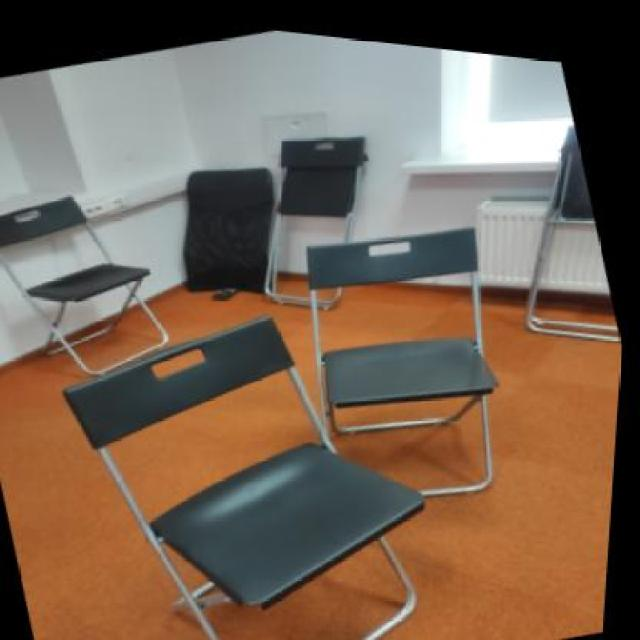chair: (25, 257, 472, 638), (266, 179, 539, 528), (0, 149, 215, 415)
